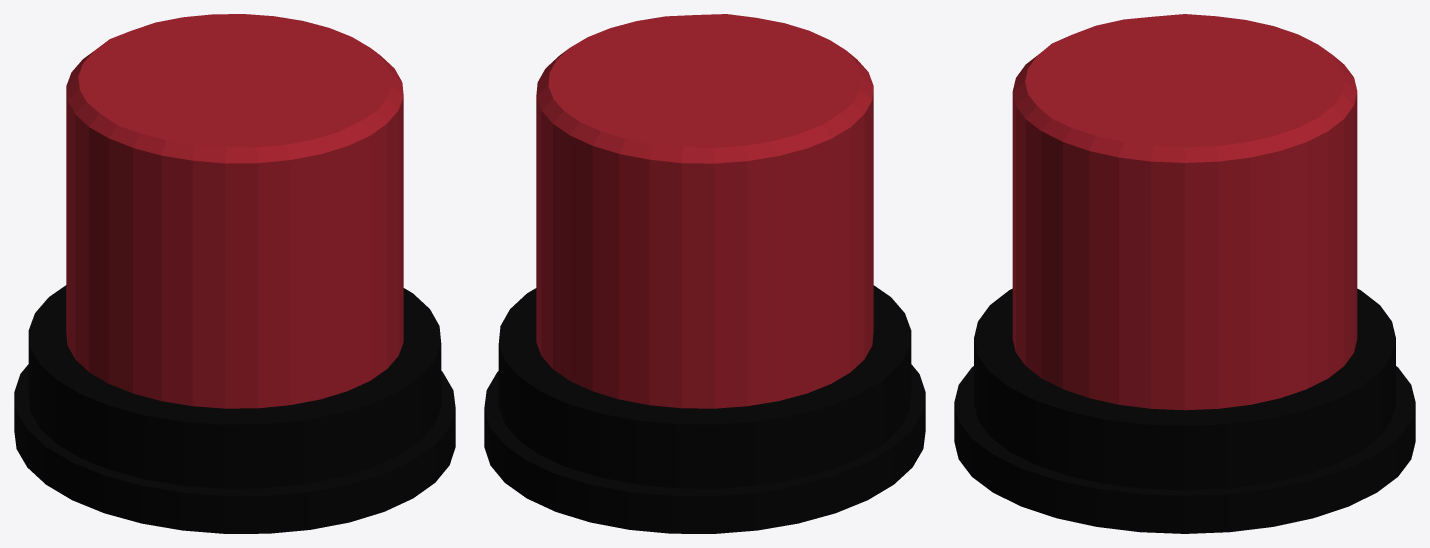
The model's file is Siren light.fbx.
3 renders of one model, left to right at view 1: azimuth 30°, elevation 25°; view 2: azimuth 150°, elevation 25°; view 3: azimuth 270°, elevation 25°, orthographic.
Parts seen in each view (by area): view 1: Cylinder, Cylinder.001, Cylinder.002; view 2: Cylinder, Cylinder.001, Cylinder.002; view 3: Cylinder, Cylinder.001, Cylinder.002.
Boxes of the visible parts, x1=… form: Cylinder: x1=66, y1=14, x2=403, y2=408; Cylinder.001: x1=28, y1=285, x2=441, y2=488; Cylinder.002: x1=14, y1=364, x2=455, y2=533; Cylinder: x1=536, y1=14, x2=873, y2=408; Cylinder.001: x1=498, y1=285, x2=911, y2=488; Cylinder.002: x1=484, y1=364, x2=925, y2=533; Cylinder: x1=1012, y1=14, x2=1357, y2=410; Cylinder.001: x1=974, y1=288, x2=1395, y2=490; Cylinder.002: x1=954, y1=366, x2=1415, y2=533.
Size of the model in its own units: 131 by 119 by 137.
